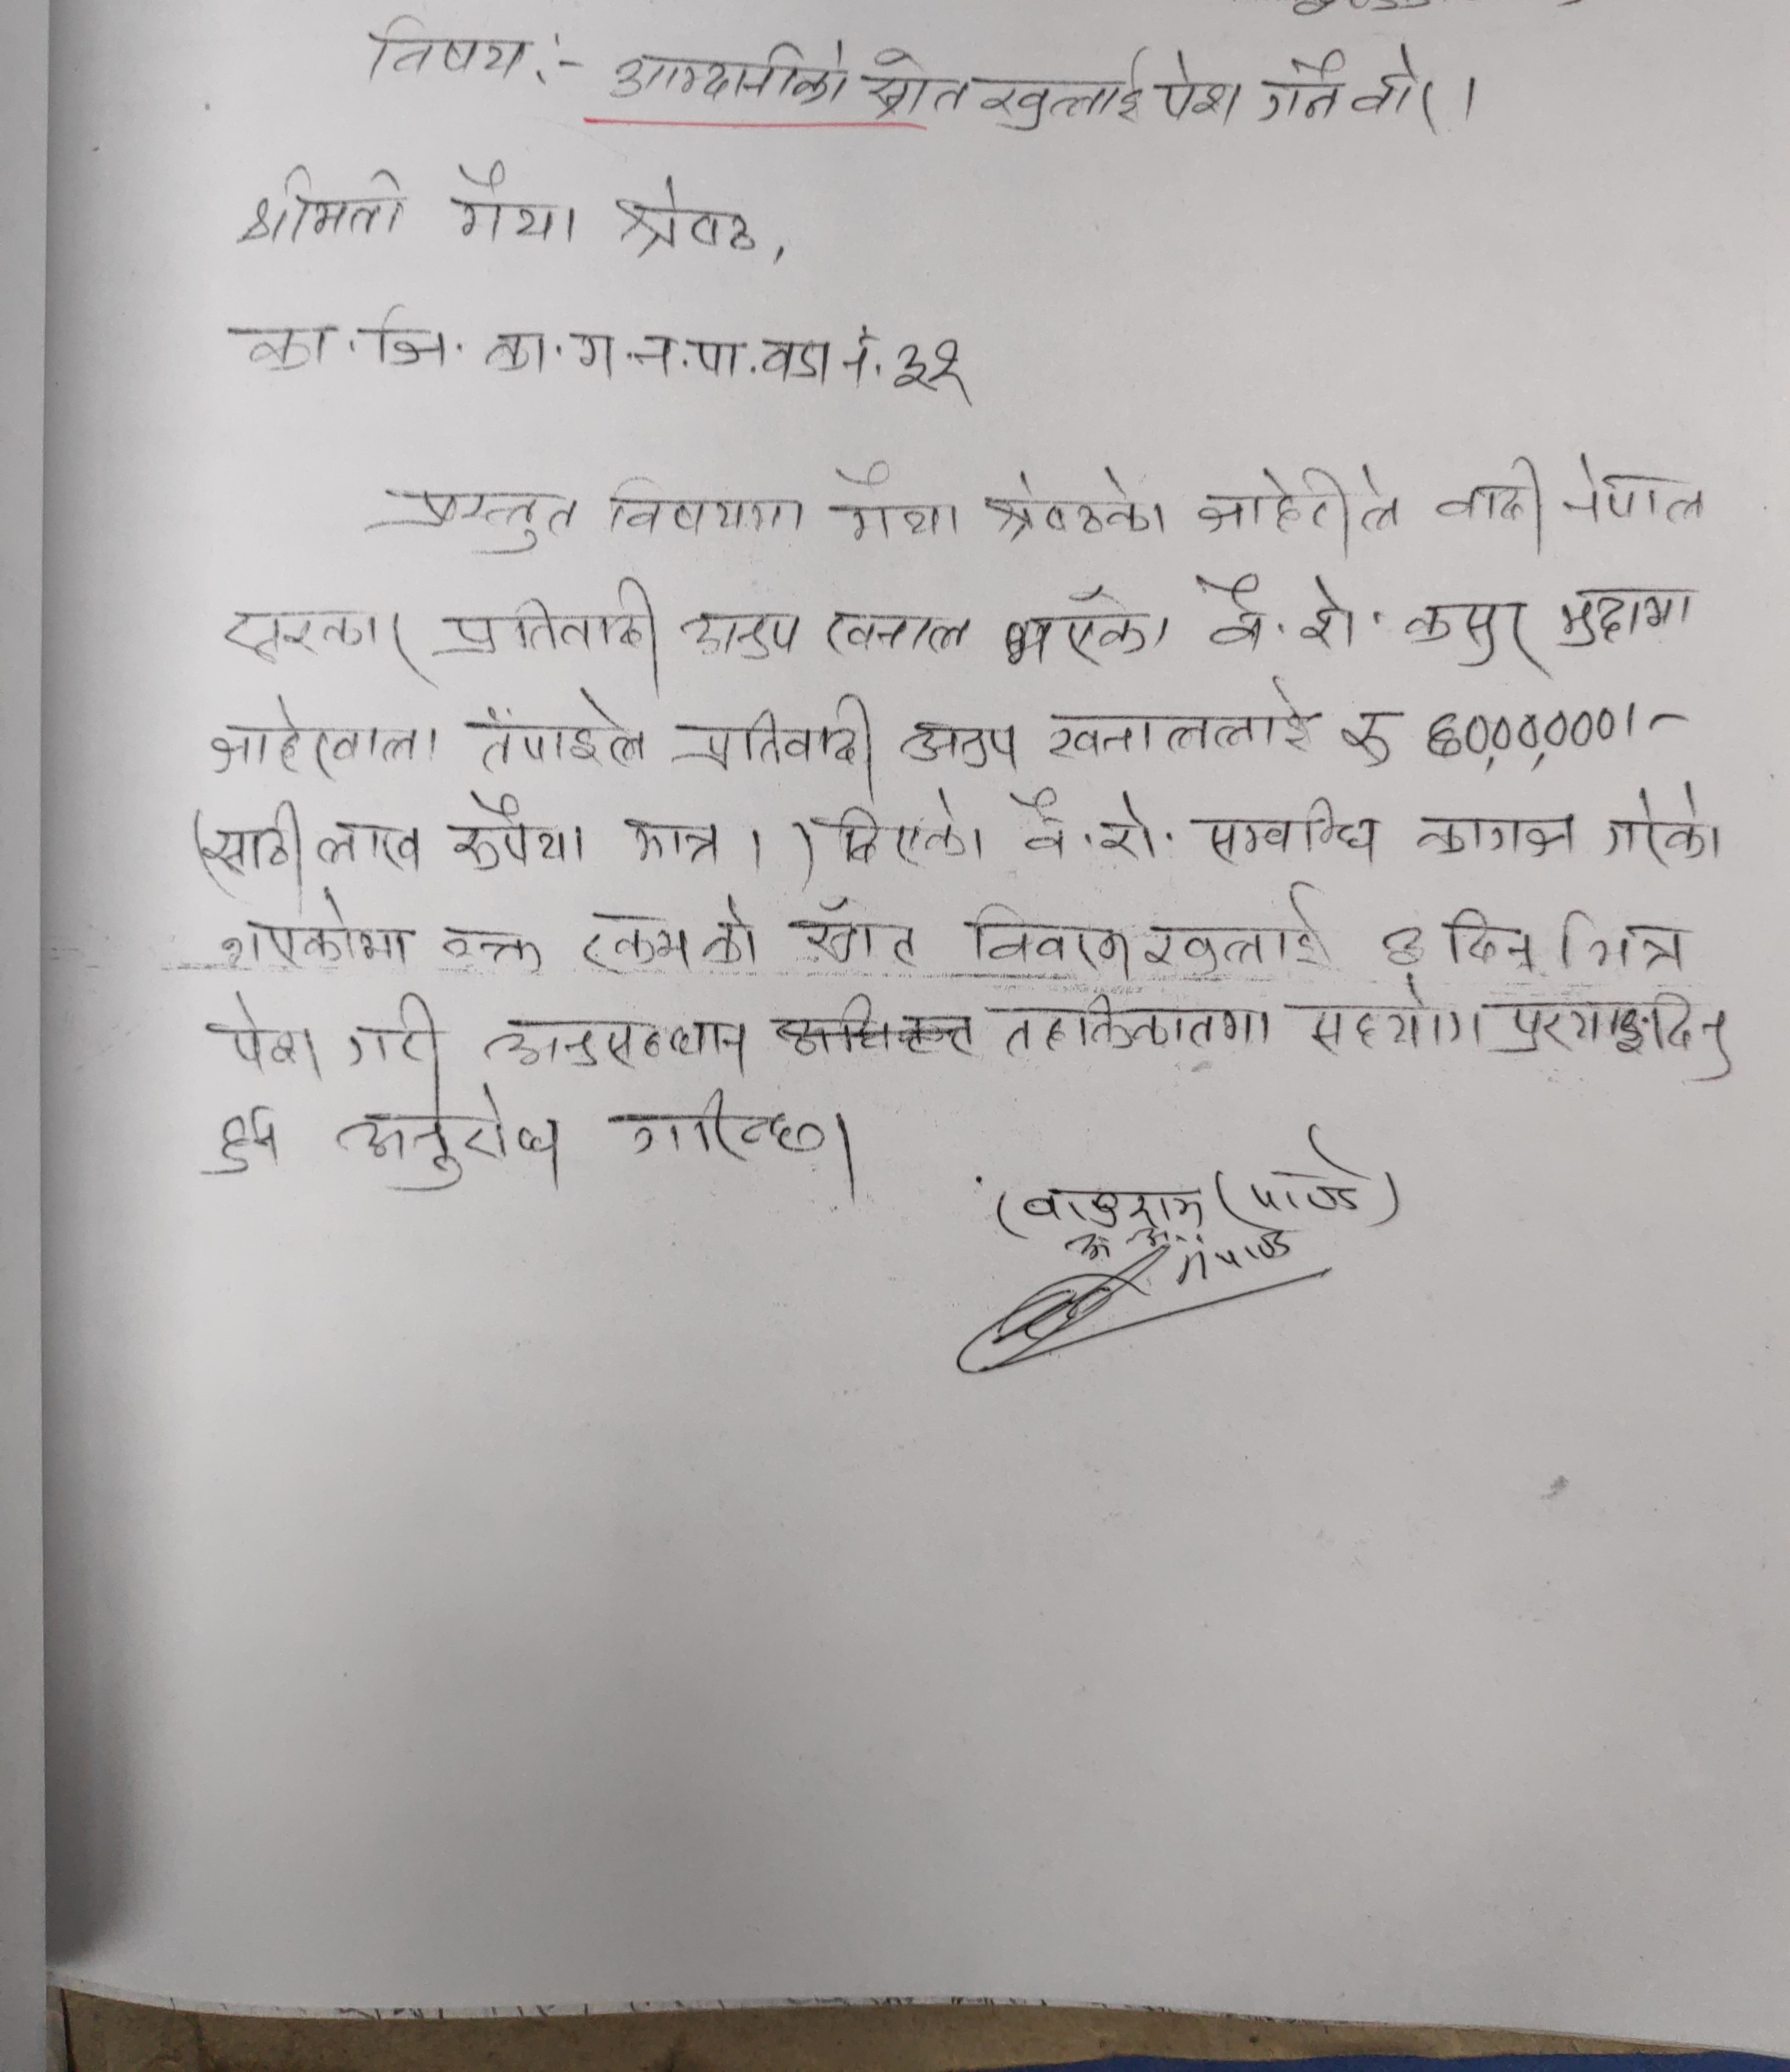text: (229, 305, 751, 382), (335, 1082, 566, 1195), (1045, 666, 1318, 761), (1489, 990, 1744, 1082), (1339, 694, 1621, 773), (203, 694, 446, 784), (1140, 874, 1344, 976), (432, 576, 659, 664), (995, 992, 1274, 1062), (1196, 458, 1401, 551), (608, 37, 853, 113), (675, 687, 877, 775), (472, 1013, 756, 1075), (617, 1085, 832, 1165), (463, 682, 652, 772), (220, 886, 414, 971), (1189, 573, 1392, 652), (363, 485, 581, 557), (580, 892, 761, 976), (1302, 976, 1485, 1059), (983, 469, 1173, 548), (1001, 587, 1175, 671), (974, 51, 1154, 132), (604, 469, 809, 539), (241, 162, 405, 247), (830, 786, 987, 870), (1244, 1119, 1371, 1223), (1202, 795, 1385, 865), (449, 153, 580, 252), (610, 173, 759, 257), (1559, 446, 1711, 529), (440, 788, 592, 870), (217, 601, 407, 666), (965, 900, 1133, 974), (363, 11, 527, 83), (1011, 784, 1159, 862), (210, 992, 335, 1084), (1018, 1175, 1209, 1235), (826, 463, 964, 544), (1600, 781, 1728, 865), (1404, 596, 1536, 675), (342, 987, 447, 1085), (1432, 455, 1554, 539), (1351, 41, 1446, 144), (1550, 585, 1697, 652), (1556, 906, 1684, 980), (203, 795, 308, 884), (789, 897, 921, 967), (858, 44, 974, 122), (823, 603, 973, 662), (1408, 814, 1582, 863), (893, 715, 1018, 781), (1254, 48, 1346, 130), (1156, 44, 1240, 129), (1441, 904, 1542, 974), (684, 608, 802, 664), (314, 814, 425, 872), (210, 1103, 287, 1179), (890, 333, 973, 400), (618, 818, 722, 870), (440, 925, 543, 976), (761, 333, 833, 386), (1378, 920, 1429, 971), (837, 326, 870, 384)
